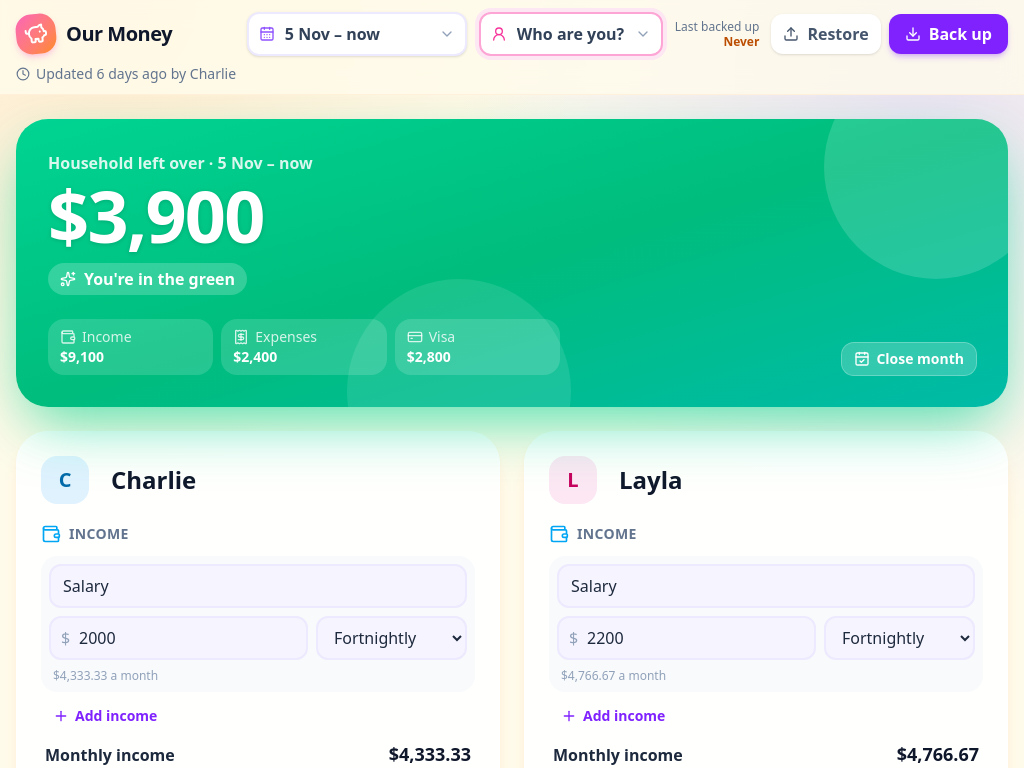
Scenario: with the example data › turns red when the money runs out
This screenshot has width=1024, height=768.
Step 1. Clear the 5th field named "Amount" → (178, 638), box [49,616,308,660]
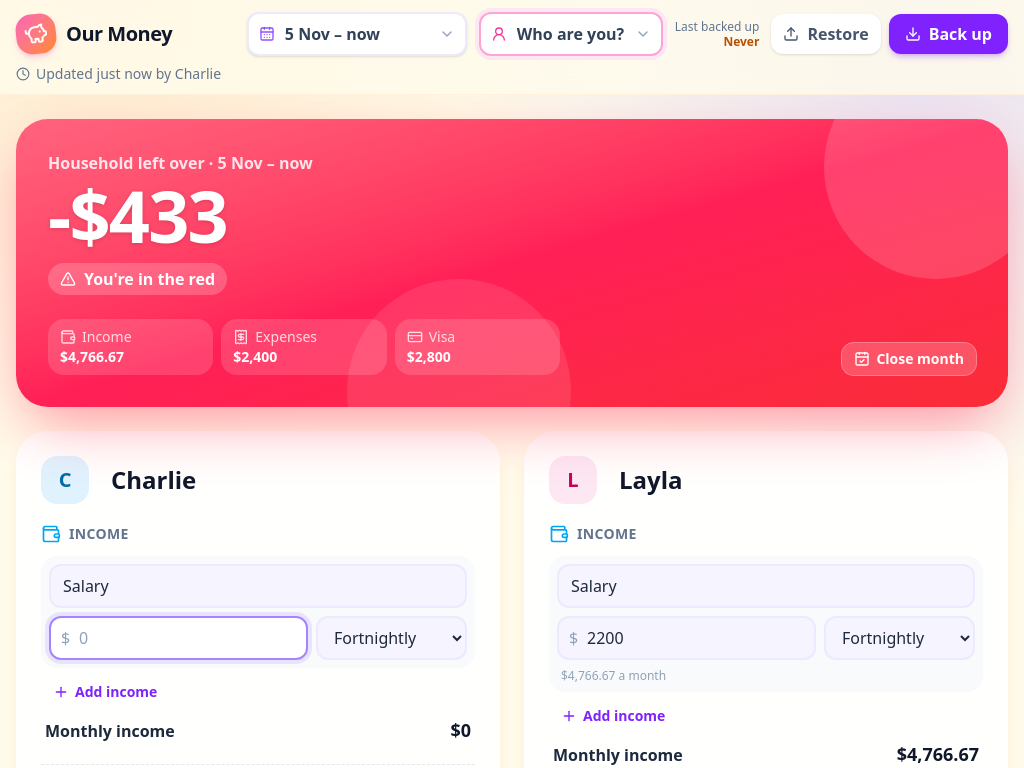
Step 2. Clear the 5th field named "Amount" → (686, 638), box [557,616,816,660]
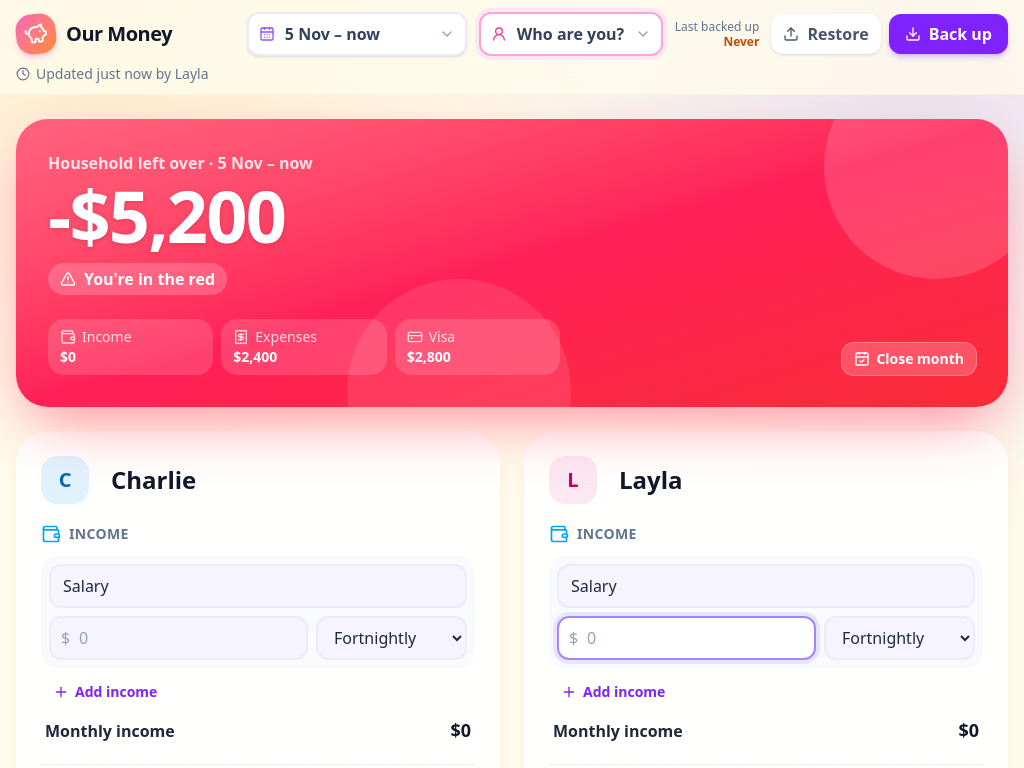
Expected: the element named "Balance" shows "You're in the red", [84,268,215,290]
Expected: the element named "Balance" shows "-$5,200", [48,166,285,264]
